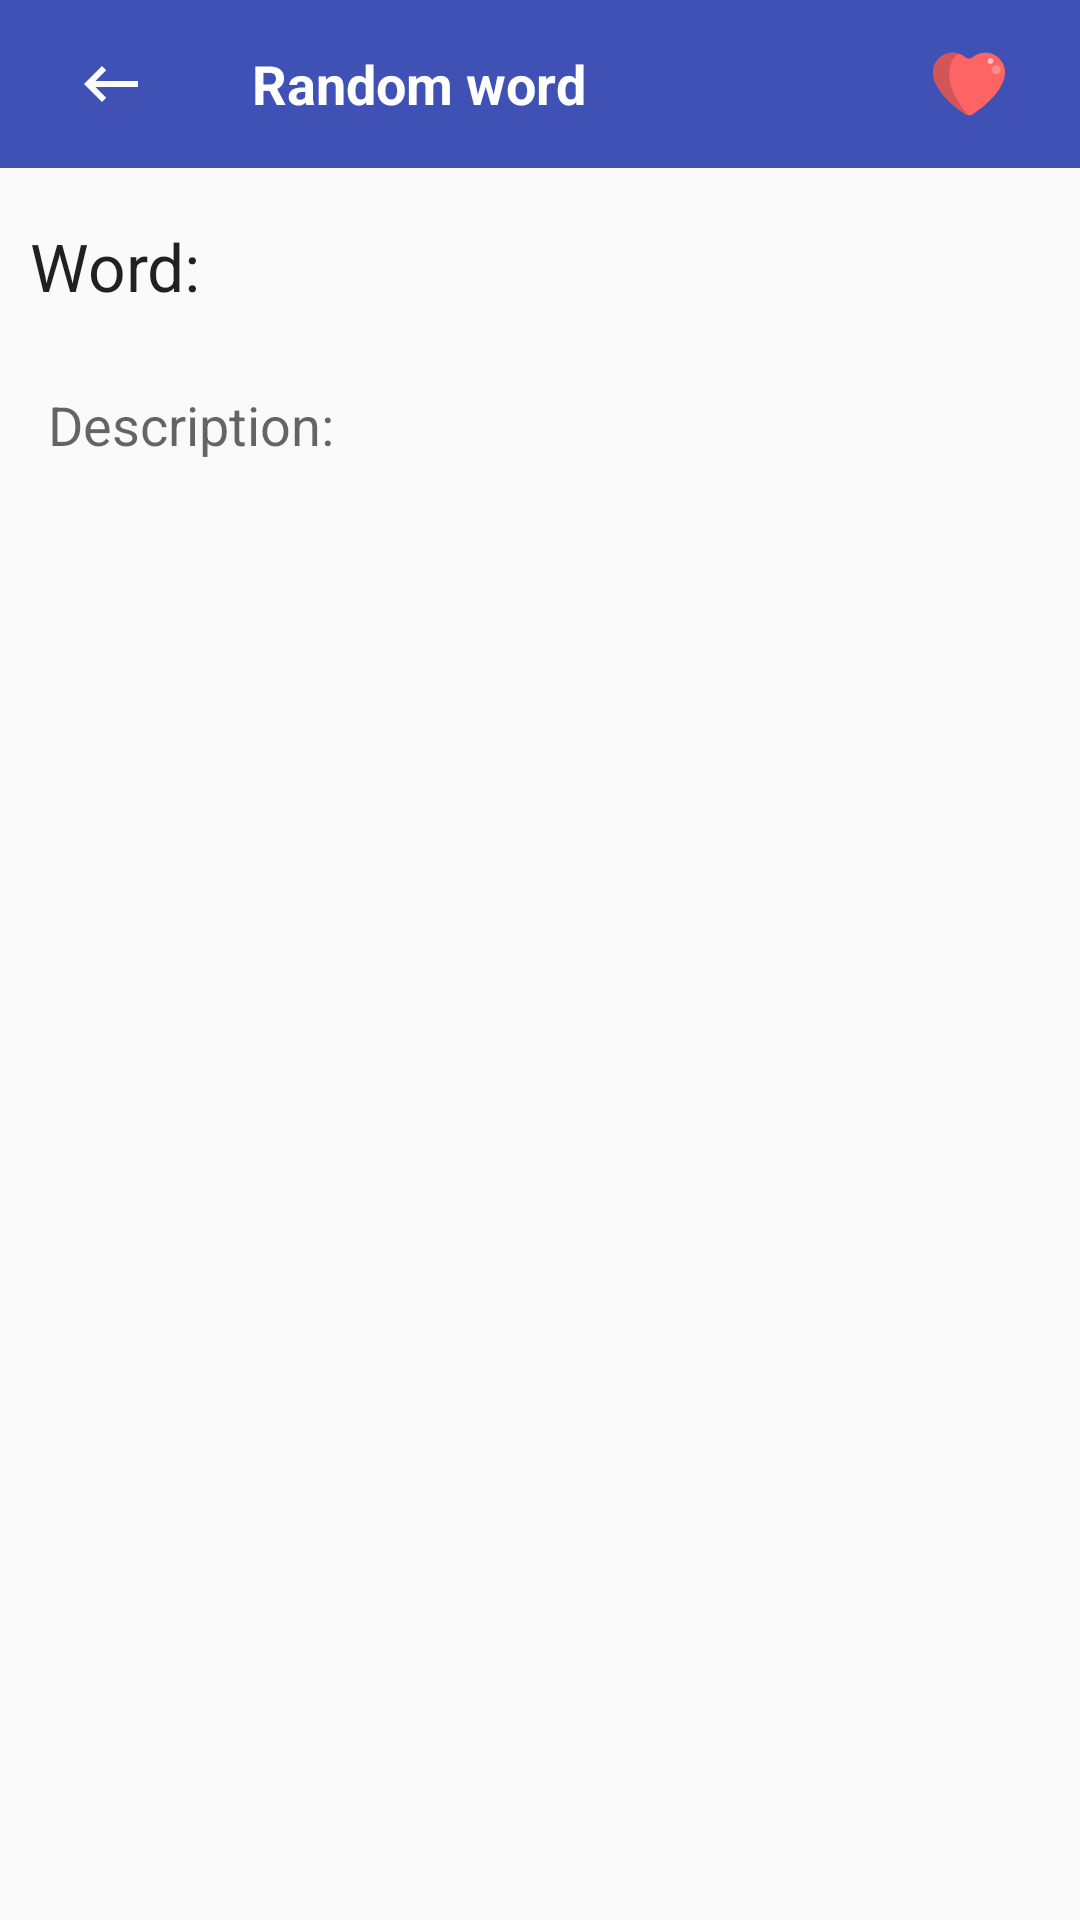

Where icons sit on this 1080w x 1920h app screen, as (x1, y1, x2, y2):
back arrow: (84, 66, 138, 102)
favourite icon: (933, 52, 1005, 116)
